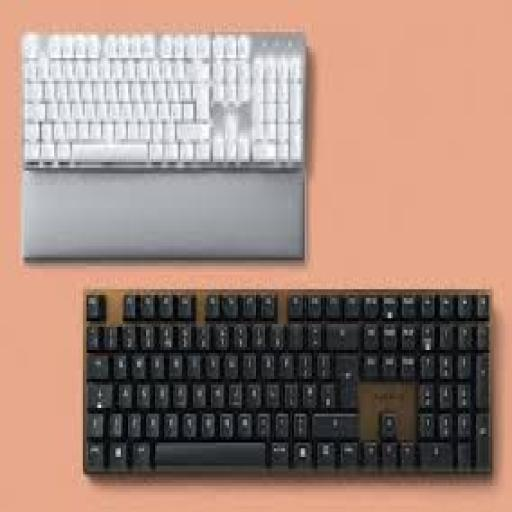keyboard: (85, 289, 490, 472), (22, 32, 308, 257)
